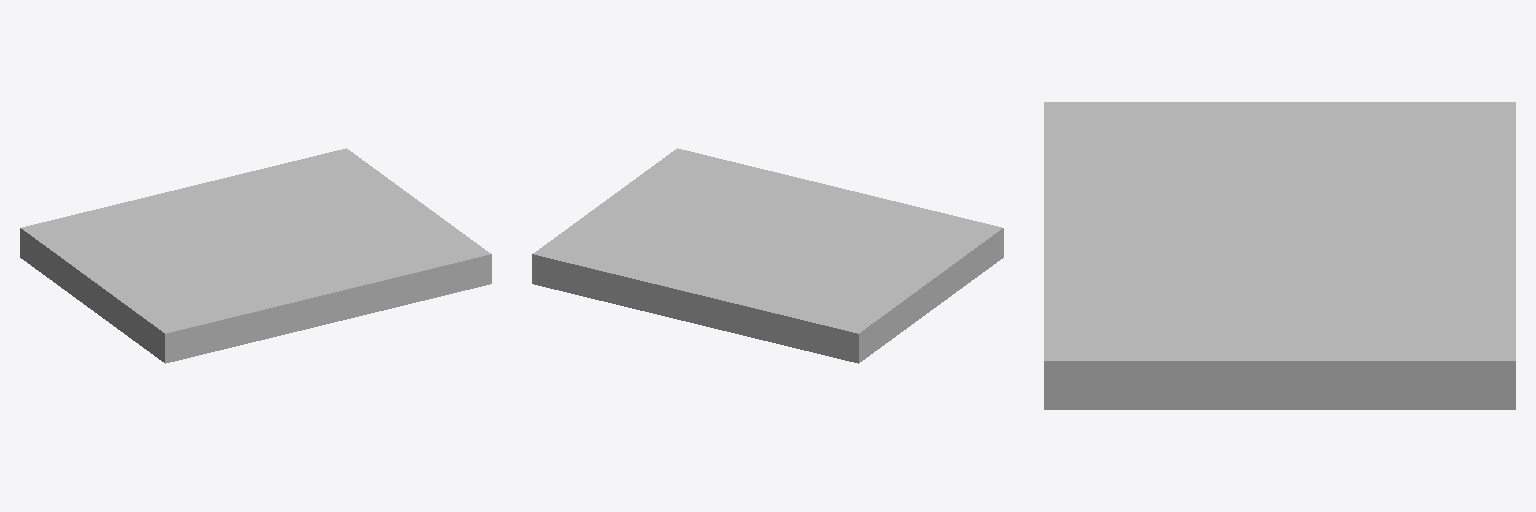
URDF robot description (carDoor):
<?xml version="1.0"?>
<robot name="carDoor">
  <link name="carDoor_base_link">

    <visual>
      <origin rpy="0 0 0" xyz="0.0 0.0 0.0"/>
      <geometry>
          <box size="0.2282 0.1754 0.02"/>
      </geometry>
      <material name="gray">
        <color rgba="0.8 0.8 0.8 1"/>
      </material>
    </visual>
    <collision>
      <origin rpy="0 0 0" xyz="0.0 0.0 0.0"/>
      <geometry>
          <box size="0.2282 0.1754 0.02"/>
      </geometry>
    </collision>
  </link>
</robot>

--- Facts derived from the render (not from the file) ---
The picture shows the robot from 3 angles, left to right: view 1: azimuth 30°, elevation 25°; view 2: azimuth 150°, elevation 25°; view 3: azimuth 270°, elevation 25°; orthographic projection.
Robot: carDoor — 1 links, 0 joints (none); root link carDoor_base_link; default pose: every joint at zero.
Visible links, largest first — view 1: carDoor_base_link; view 2: carDoor_base_link; view 3: carDoor_base_link.
Boxes of the visible links, left/top/right/bottom form: carDoor_base_link: left=20, top=148, right=491, bottom=363; carDoor_base_link: left=532, top=148, right=1003, bottom=363; carDoor_base_link: left=1044, top=102, right=1515, bottom=409.
Size in the robot's own frame: 0.2282 by 0.1754 by 0.02 metres.
Geometry: primitives only (box / cylinder / sphere), no mesh files.